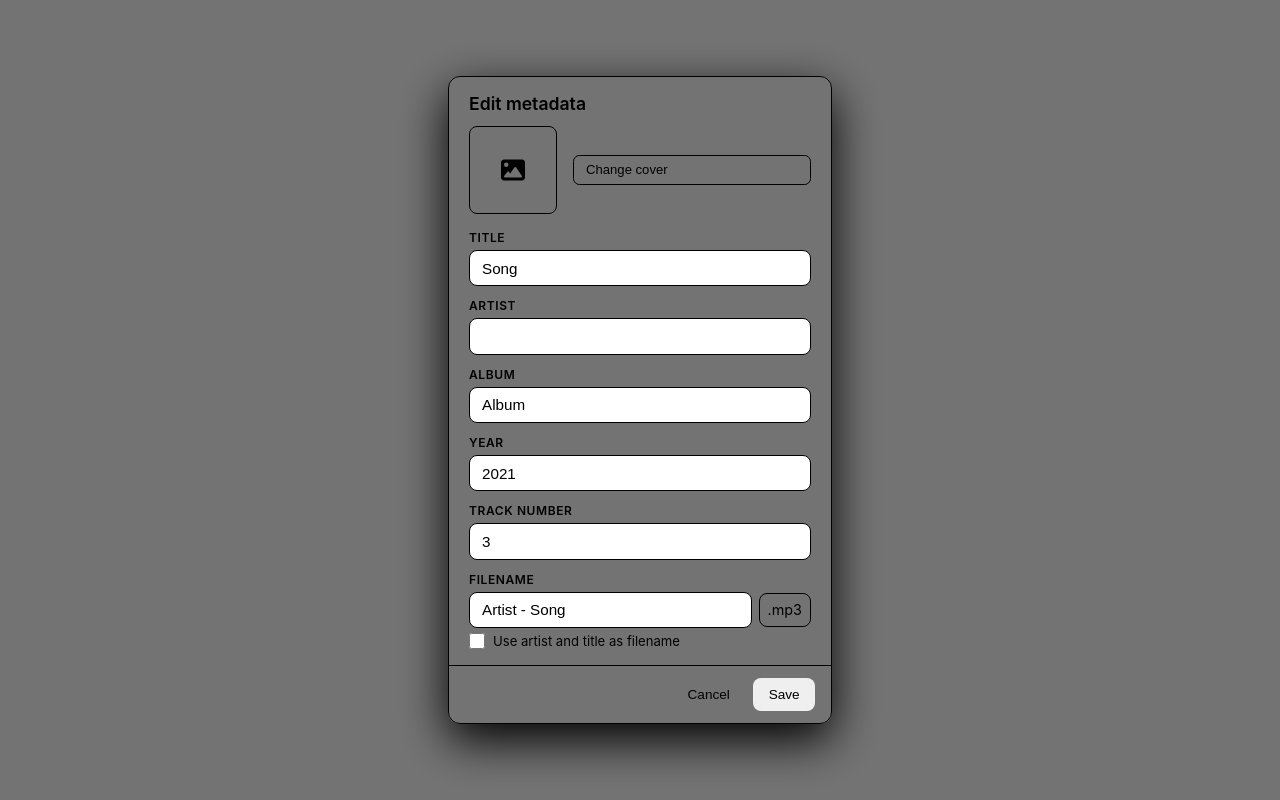
Test: EditMetadataModal › auto-filename checkbox › uses only title when artist is empty
Click the checkbox: {"x": 477, "y": 641} [469,633,485,649]
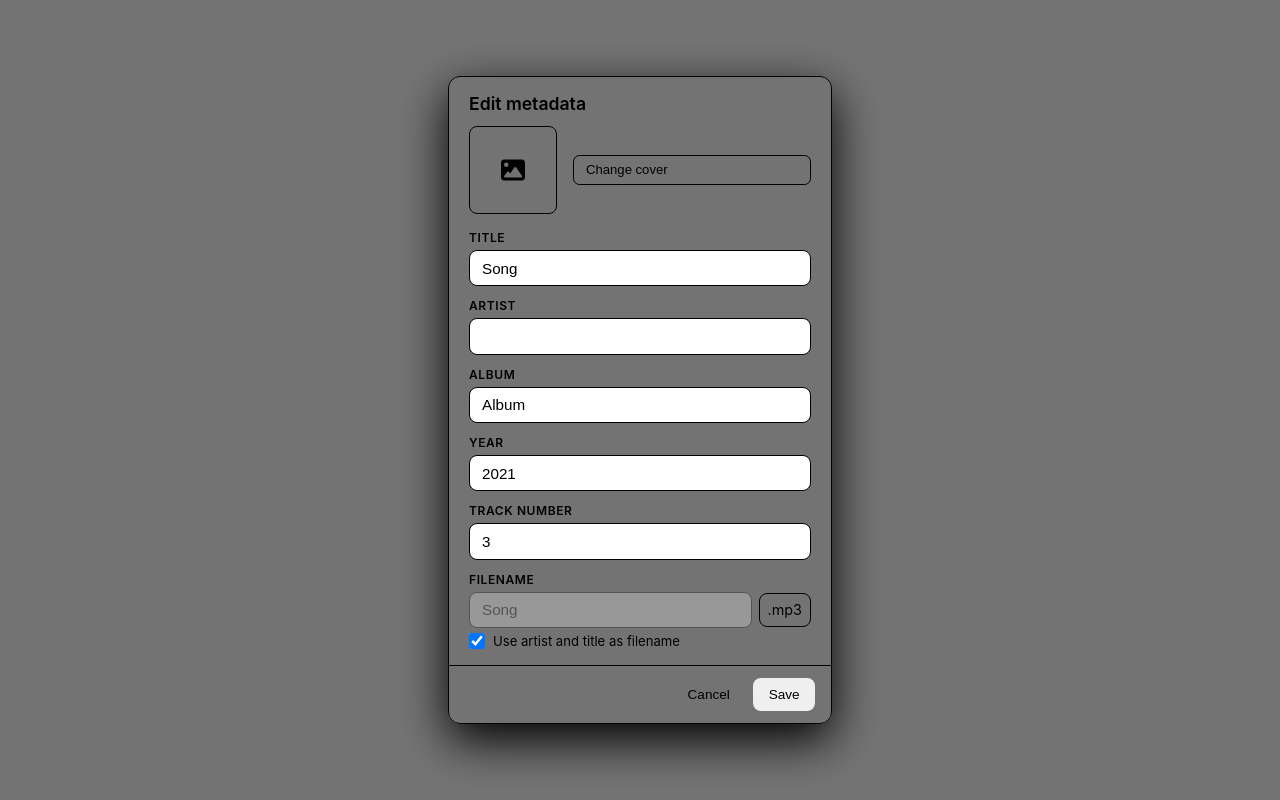
Check: the field labelled "Filename" holds "Song", box [469,592,752,628]
